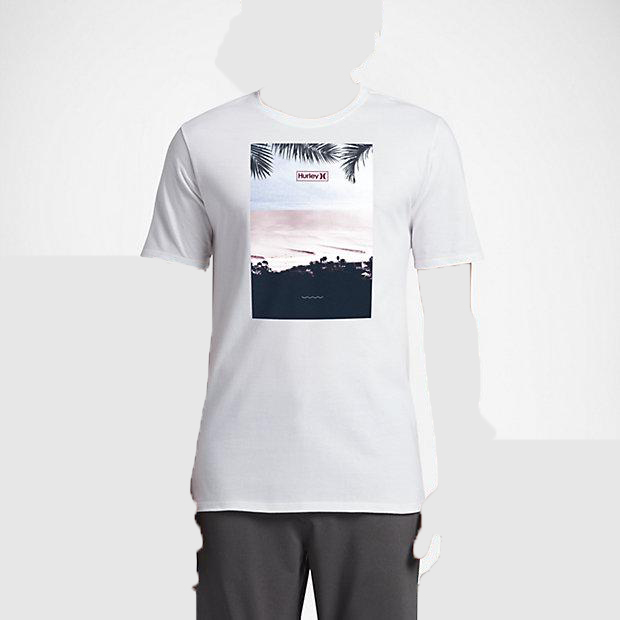teeshirt: (136, 87, 484, 522)
